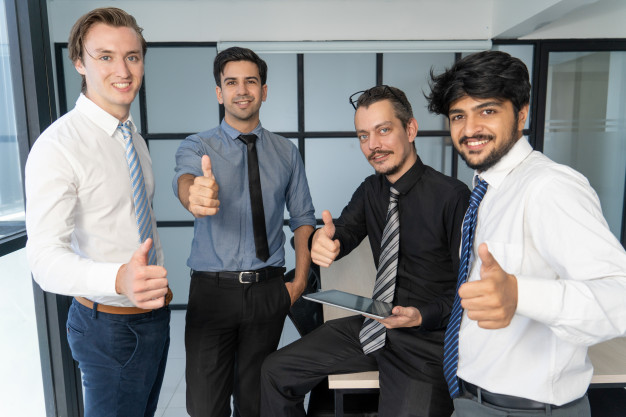thumbsup: (458, 242, 510, 329), (130, 237, 168, 310), (188, 153, 220, 215), (310, 209, 340, 268)
